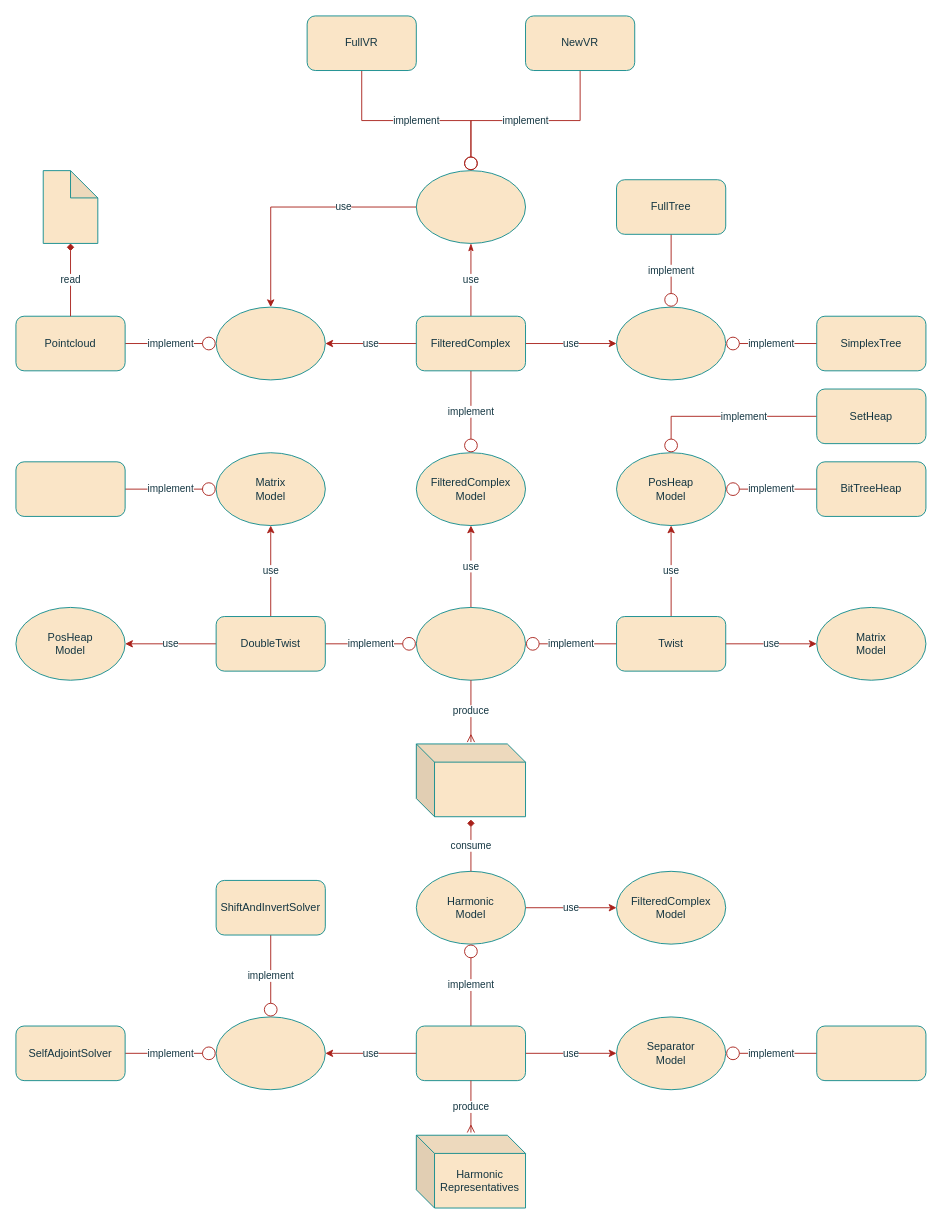
The diagram is 942 pixels wide and 1224 high, and some of its shapes have lost their labels. Here are the shapes that lost their labels. From the top down, the centre of each, then its label:
At point (70, 206): "OFF".
At point (470, 206): "Filtration Model".
At point (270, 343): "Pointcloud Model".
At point (671, 343): "SimplexTree Model".
At point (70, 488): "SparseMatrix".
At point (470, 643): "PersistenceDiagram Model".
At point (470, 780): "Persistence Pairs".
At point (270, 1053): "Solver Model".
At point (470, 1053): "Harmonic".
At point (871, 1053): "SVDSeparator".
